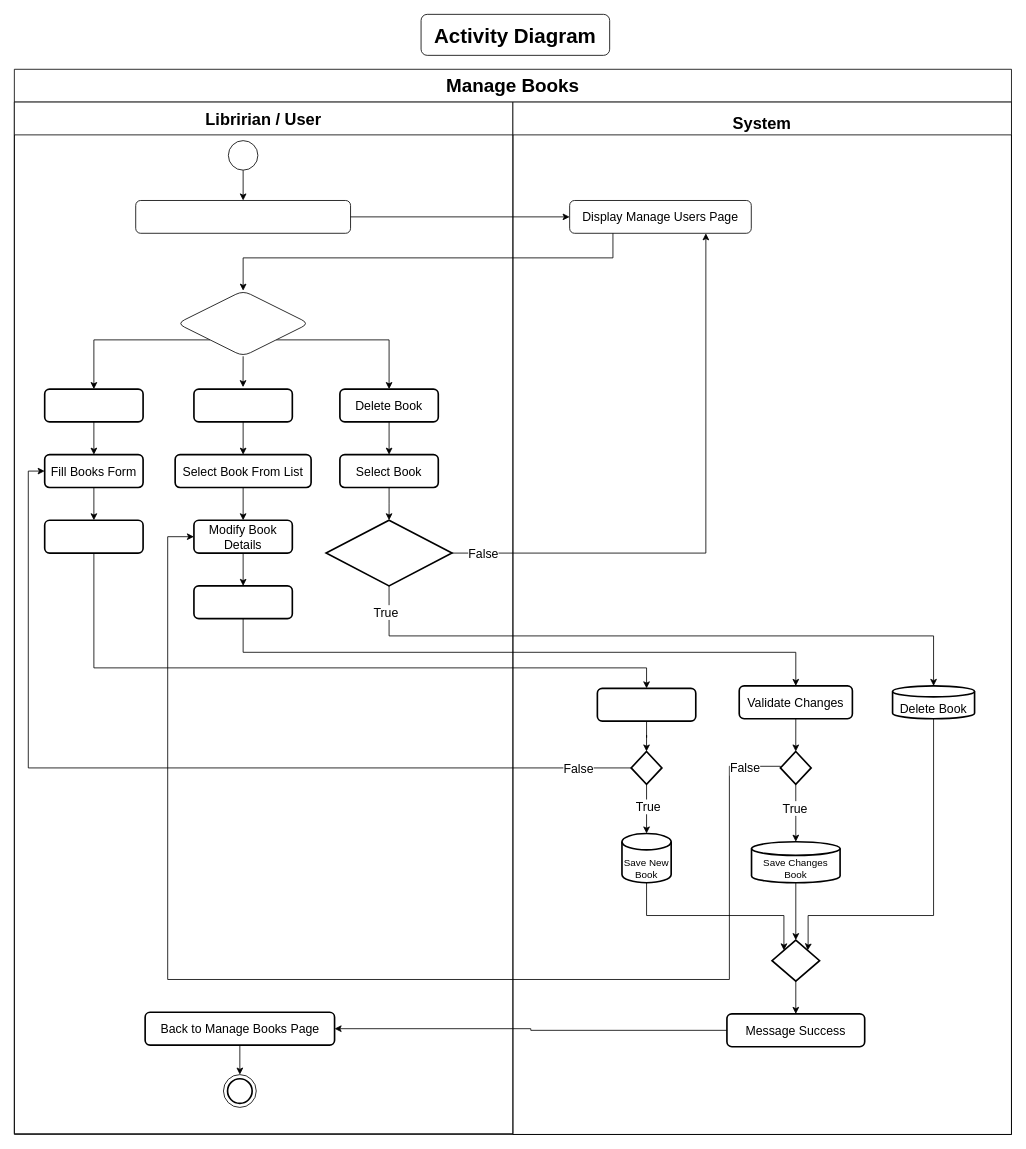
This 1026x1149 diagram has some shape labels left out. Here are the shapes that lost their labels. From the top down, the box of each, then its label:
(135, 200, 351, 233): Navigate to "Manage Books" Page
(176, 290, 309, 356): Choose Action
(43, 388, 144, 422): Add Book
(193, 388, 293, 422): Edit Book
(43, 519, 144, 554): Submit New Book
(325, 519, 452, 586): Confirm Deletion
(193, 585, 293, 619): Submit Changes
(596, 687, 696, 722): Validate Input
